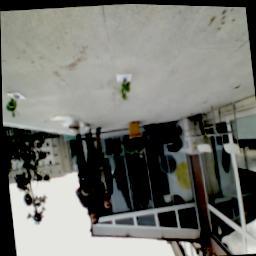herb: (117, 77, 133, 103), (4, 97, 21, 118)
